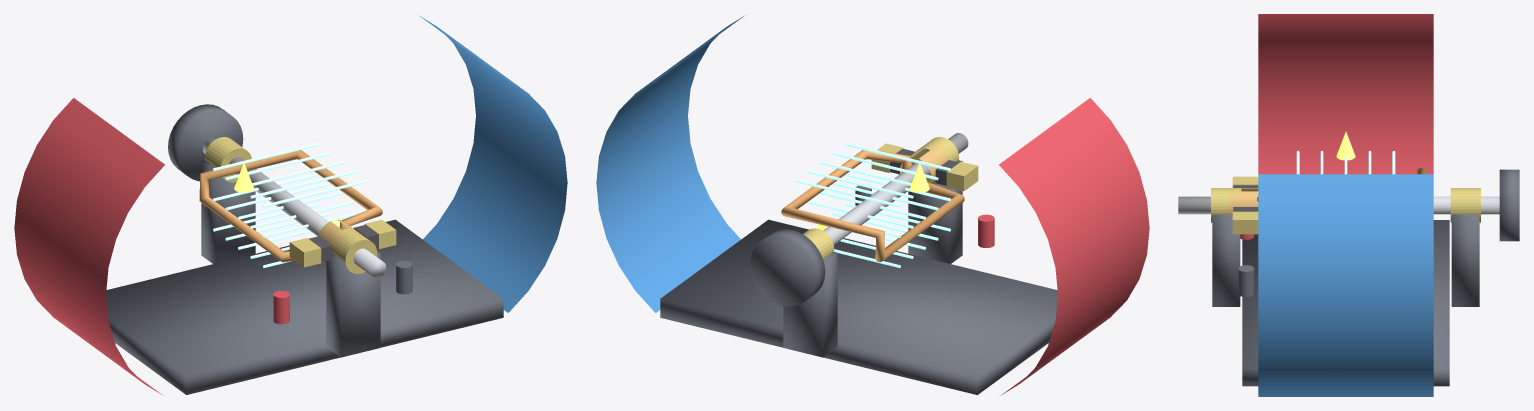
Rendered from motor_realistic.glb.
The picture shows the model from 3 angles, left to right: view 1: azimuth 30°, elevation 25°; view 2: azimuth 150°, elevation 25°; view 3: azimuth 270°, elevation 25°; orthographic projection. The views are drawn at different scales.
Parts seen in each view (by area): view 1: Motor_Baseplate_Chassis, North_Magnetic_Pole, South_Magnetic_Pole, Front_Bearing_Pillow_Block, Armature_Coil_Windings, Output_Shaft_Pulley, Rear_Bearing_Pillow_Block, Drive_Shaft_Axle, Front_Bearing_Pillow_Block_Brass_Bushing, Rear_Bearing_Pillow_Block_Brass_Bushing, Carbon_Brush_Positive_Holder, Carbon_Brush_Negative_Holder (+2 smaller); view 2: Motor_Baseplate_Chassis, North_Magnetic_Pole, South_Magnetic_Pole, Output_Shaft_Pulley, Armature_Coil_Windings, Rear_Bearing_Pillow_Block, Front_Bearing_Pillow_Block, Drive_Shaft_Axle, Carbon_Brush_Positive_Holder, Front_Bearing_Pillow_Block_Brass_Bushing, Terminal_Positive, Rear_Bearing_Pillow_Block_Brass_Bushing; view 3: South_Magnetic_Pole, North_Magnetic_Pole, Motor_Baseplate_Chassis, Rear_Bearing_Pillow_Block, Front_Bearing_Pillow_Block, Output_Shaft_Pulley, Drive_Shaft_Axle, Rear_Bearing_Pillow_Block_Brass_Bushing, Front_Bearing_Pillow_Block_Brass_Bushing, Carbon_Brush_Negative_Holder, Split_Ring_Commutator_Segment_2, Terminal_Negative (+1 smaller).
Boxes of the visible parts, left/top/right/bottom form: Motor_Baseplate_Chassis: left=106, top=219, right=503, bottom=394; North_Magnetic_Pole: left=14, top=98, right=164, bottom=395; South_Magnetic_Pole: left=418, top=15, right=567, bottom=312; Front_Bearing_Pillow_Block: left=326, top=251, right=380, bottom=357; Armature_Coil_Windings: left=199, top=150, right=382, bottom=262; Output_Shaft_Pulley: left=168, top=104, right=243, bottom=181; Rear_Bearing_Pillow_Block: left=201, top=160, right=255, bottom=263; Drive_Shaft_Axle: left=203, top=138, right=386, bottom=277; Front_Bearing_Pillow_Block_Brass_Bushing: left=330, top=228, right=377, bottom=273; Rear_Bearing_Pillow_Block_Brass_Bushing: left=204, top=137, right=251, bottom=182; Carbon_Brush_Positive_Holder: left=289, top=238, right=321, bottom=267; Carbon_Brush_Negative_Holder: left=364, top=219, right=396, bottom=249; Motor_Baseplate_Chassis: left=660, top=219, right=1057, bottom=394; North_Magnetic_Pole: left=999, top=98, right=1149, bottom=395; South_Magnetic_Pole: left=596, top=15, right=745, bottom=312; Output_Shaft_Pulley: left=750, top=229, right=825, bottom=306; Armature_Coil_Windings: left=781, top=150, right=964, bottom=262; Rear_Bearing_Pillow_Block: left=783, top=251, right=837, bottom=357; Front_Bearing_Pillow_Block: left=908, top=160, right=962, bottom=263; Drive_Shaft_Axle: left=823, top=133, right=968, bottom=244; Carbon_Brush_Positive_Holder: left=946, top=161, right=978, bottom=191; Front_Bearing_Pillow_Block_Brass_Bushing: left=911, top=137, right=959, bottom=182; Terminal_Positive: left=978, top=214, right=994, bottom=247; Rear_Bearing_Pillow_Block_Brass_Bushing: left=803, top=228, right=834, bottom=258; South_Magnetic_Pole: left=1258, top=174, right=1433, bottom=396; North_Magnetic_Pole: left=1258, top=14, right=1433, bottom=174; Motor_Baseplate_Chassis: left=1242, top=220, right=1449, bottom=386; Rear_Bearing_Pillow_Block: left=1451, top=214, right=1479, bottom=306; Front_Bearing_Pillow_Block: left=1212, top=214, right=1240, bottom=306; Output_Shaft_Pulley: left=1499, top=169, right=1519, bottom=241; Drive_Shaft_Axle: left=1178, top=196, right=1499, bottom=214; Rear_Bearing_Pillow_Block_Brass_Bushing: left=1450, top=188, right=1480, bottom=222; Front_Bearing_Pillow_Block_Brass_Bushing: left=1211, top=188, right=1241, bottom=222; Carbon_Brush_Negative_Holder: left=1232, top=211, right=1258, bottom=234; Split_Ring_Commutator_Segment_2: left=1228, top=191, right=1258, bottom=214; Terminal_Negative: left=1238, top=265, right=1254, bottom=297.
Bounding box in the file's own units: 6.4 × 3.08 × 4.27.
